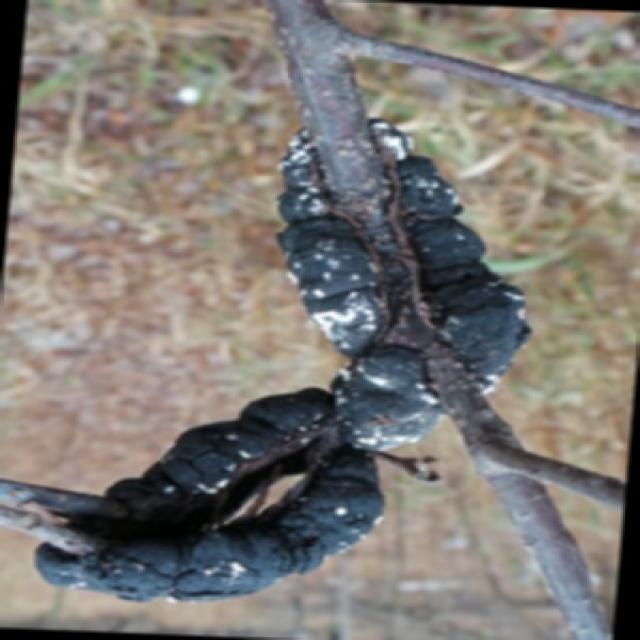Black_knot: (54, 114, 534, 548)
